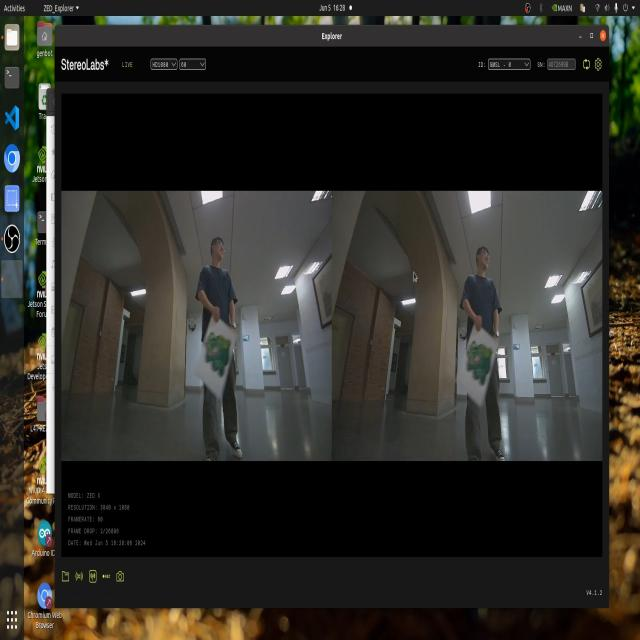green: (198, 313, 232, 370), (462, 336, 496, 386)
